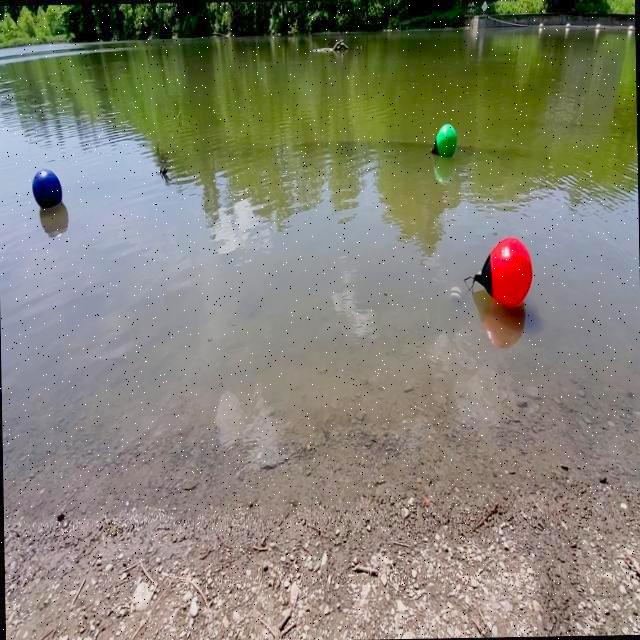buoy: (464, 232, 536, 312), (29, 165, 64, 214), (428, 118, 460, 162)
